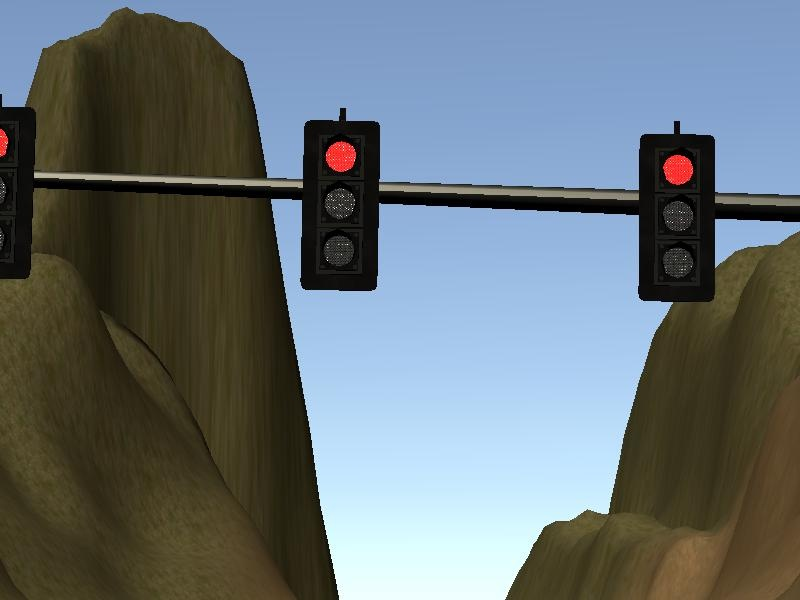RED: (302, 121, 381, 293), (640, 135, 718, 303)
